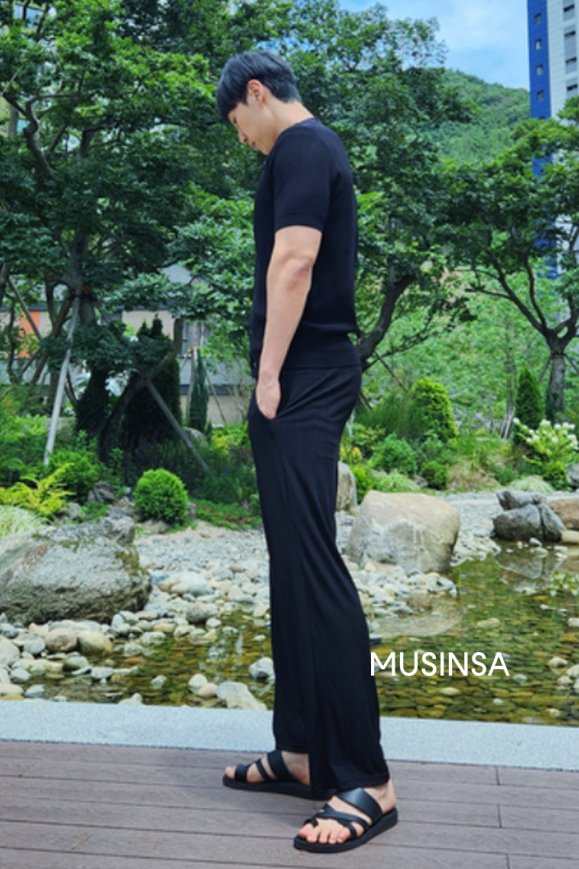Pants: (244, 349, 401, 785)
Sandal: (220, 745, 411, 852)
T-shirts: (239, 117, 369, 370)
